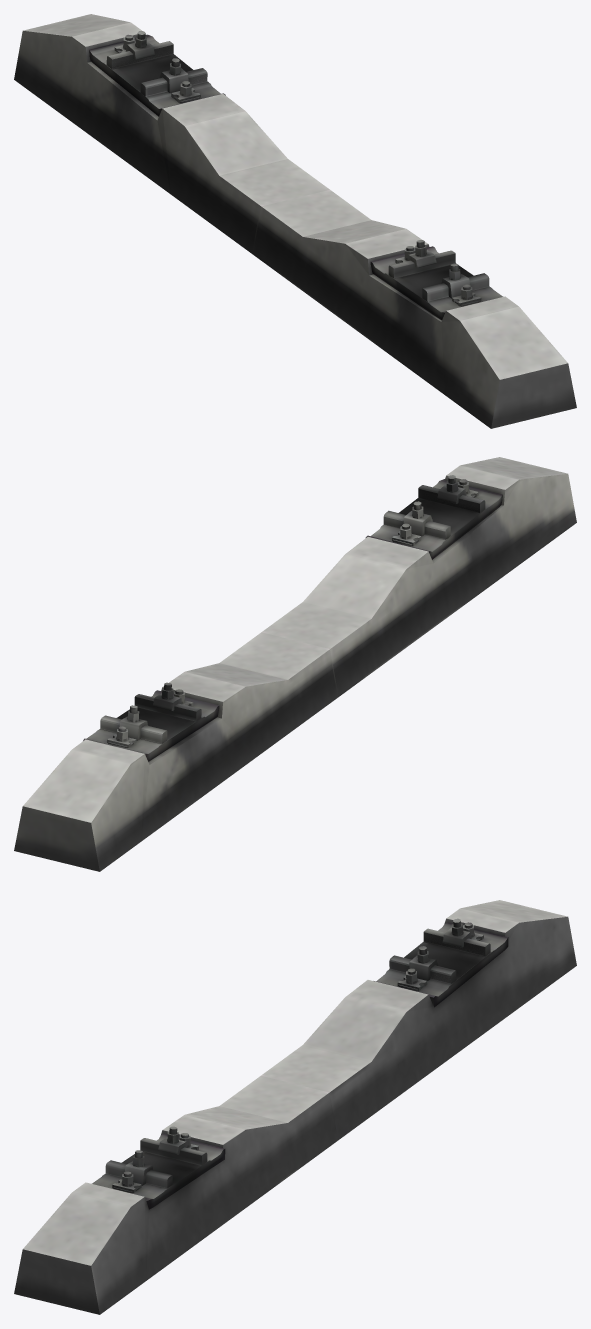
Rendered from shpaly_nabor01.fbx.
3 views of the same model, one above another, from view 1: azimuth 30°, elevation 25°; view 2: azimuth 150°, elevation 25°; view 3: azimuth 330°, elevation 25° (orthographic).
Visible parts, largest first — view 1: shpala278f_Single, shpala1434f; view 2: shpala278f_Single, shpala1434f, shpala1078f; view 3: shpala278f_Single, shpala1434f.
Boxes of the visible parts, box(x1,y1,x2,y2) form: shpala278f_Single: box(14, 14, 576, 428); shpala1434f: box(107, 31, 503, 392); shpala278f_Single: box(14, 457, 576, 871); shpala1434f: box(100, 475, 529, 747); shpala1078f: box(107, 483, 478, 747); shpala278f_Single: box(14, 900, 576, 1314); shpala1434f: box(91, 918, 575, 1314).
Size of the model in its own units: 0.2844 by 0.3009 by 2.74.
